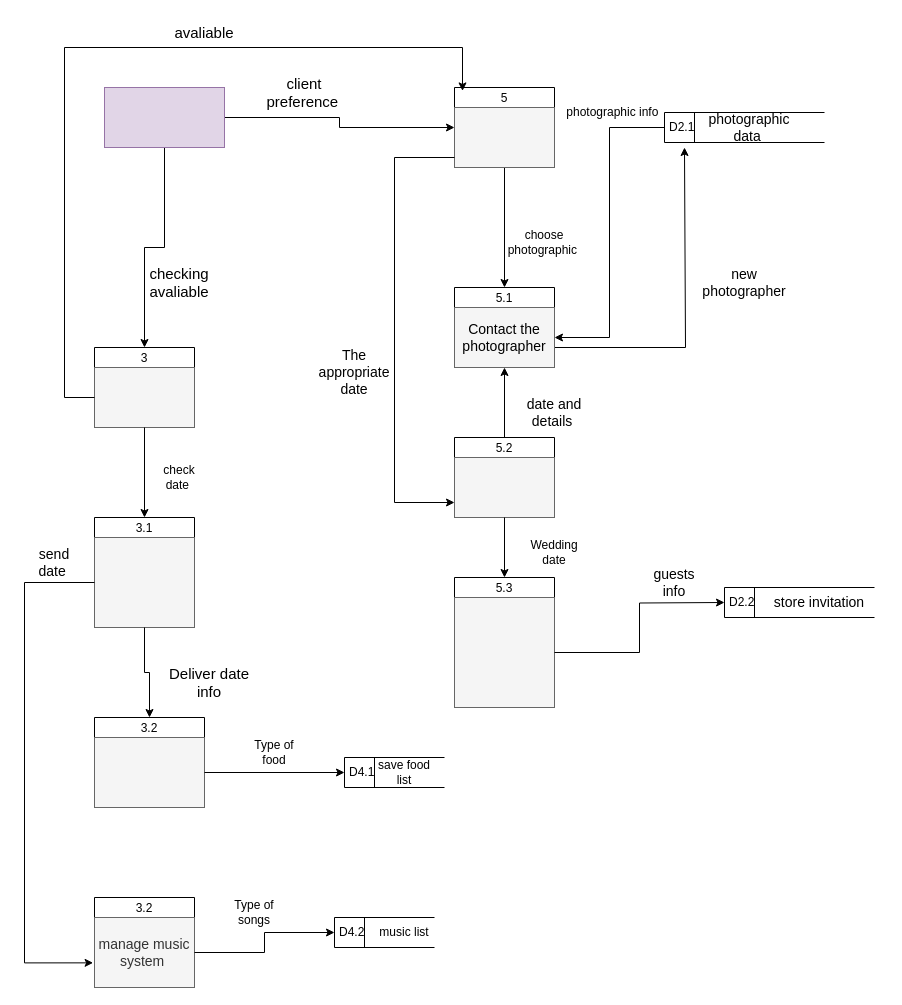
The diagram is 902 pixels wide and 1005 high, and some of its shapes have lost their labels. The shapes that lost their labels are listed below. From the top down, each one's centre as x and y in pixels, then its label:
At point 164,117: "client".
At point 504,137: "choose services".
At point 144,397: "checking for avaliable details".
At point 504,487: "choose party halls".
At point 144,582: "checking avaliable date".
At point 504,652: "send invitation".
At point 149,772: "screening Buffet type".
